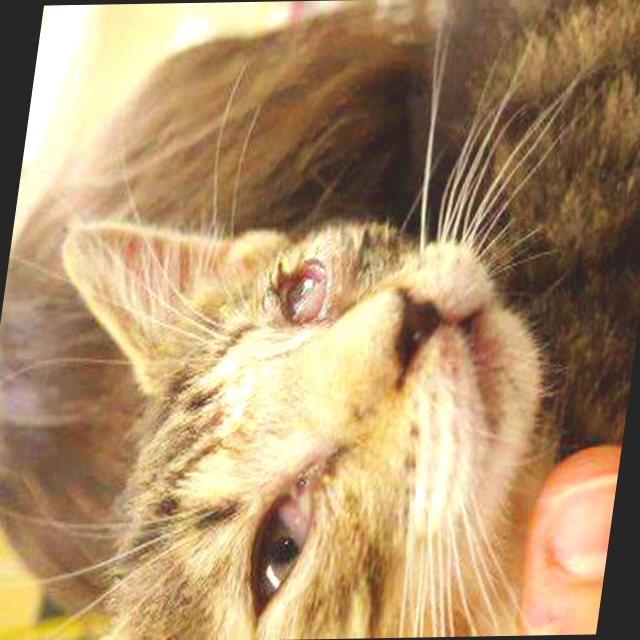eye_infection: (240, 478, 324, 617), (267, 249, 346, 333)
